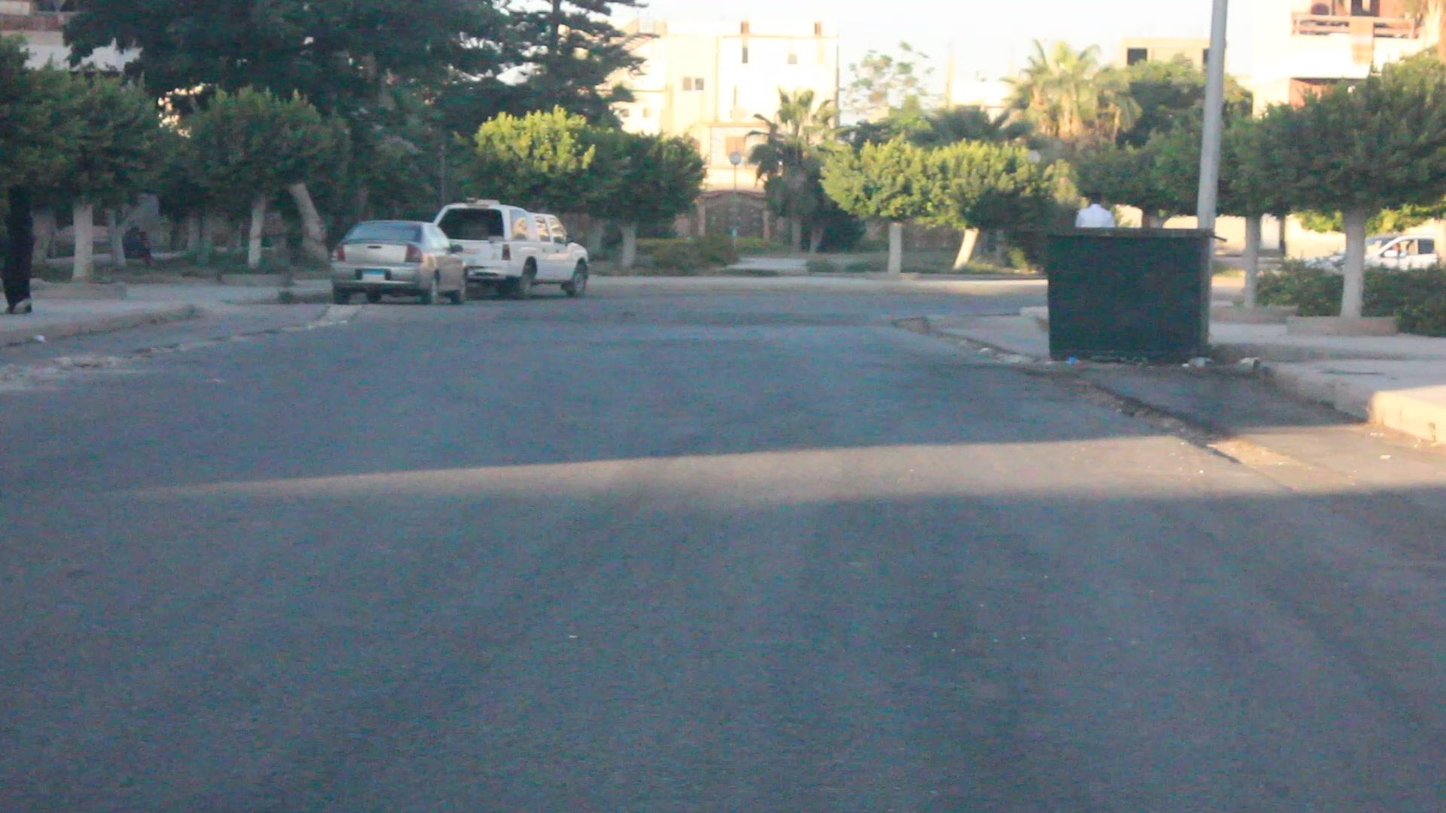Bump: (286, 288, 968, 320)
